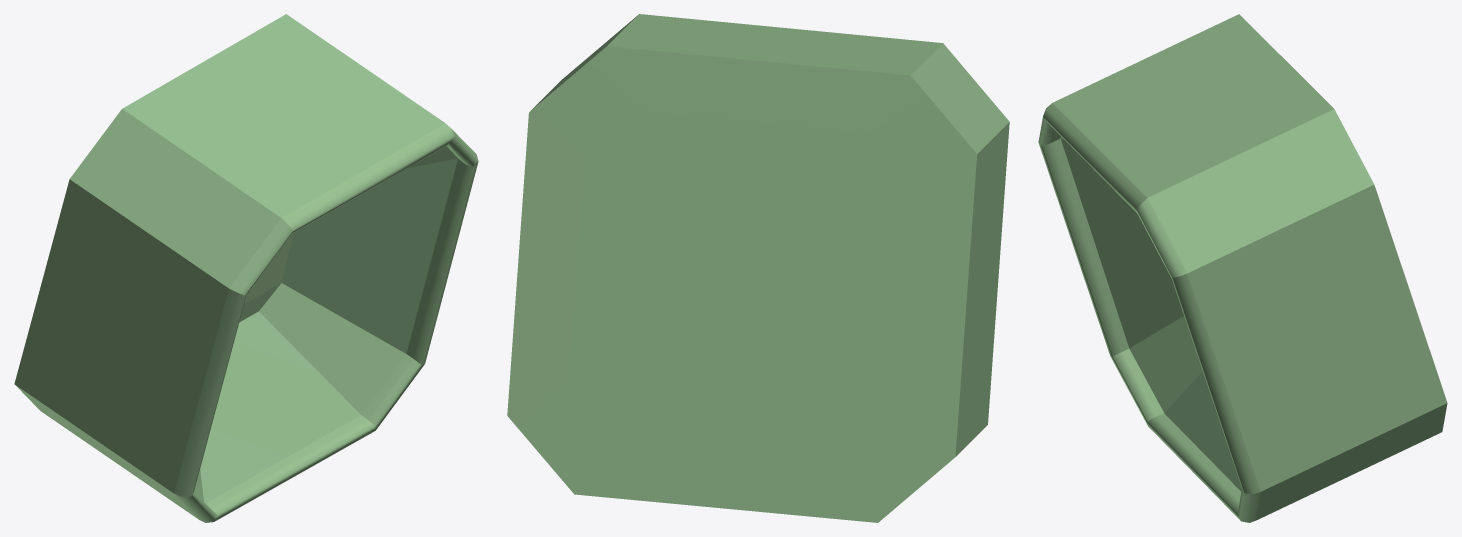
Rendered from BR2_8shapes_Square_Classic_Metal.001 2.glb.
3 views of the same model, side by side, from view 1: azimuth 30°, elevation 25°; view 2: azimuth 150°, elevation 25°; view 3: azimuth 270°, elevation 25° (orthographic). The views are drawn at different scales.
Visible parts, largest first — view 1: BR2_8shapes_Square_Classic_Metal.001; view 2: BR2_8shapes_Square_Classic_Metal.001; view 3: BR2_8shapes_Square_Classic_Metal.001.
Part boxes in pixels (box(x1,y1,x2,y2)): BR2_8shapes_Square_Classic_Metal.001: box(14, 14, 478, 522); BR2_8shapes_Square_Classic_Metal.001: box(507, 14, 1009, 522); BR2_8shapes_Square_Classic_Metal.001: box(1038, 14, 1447, 522).
Size of the model in its own units: 0.4905 by 0.4725 by 0.4373.
